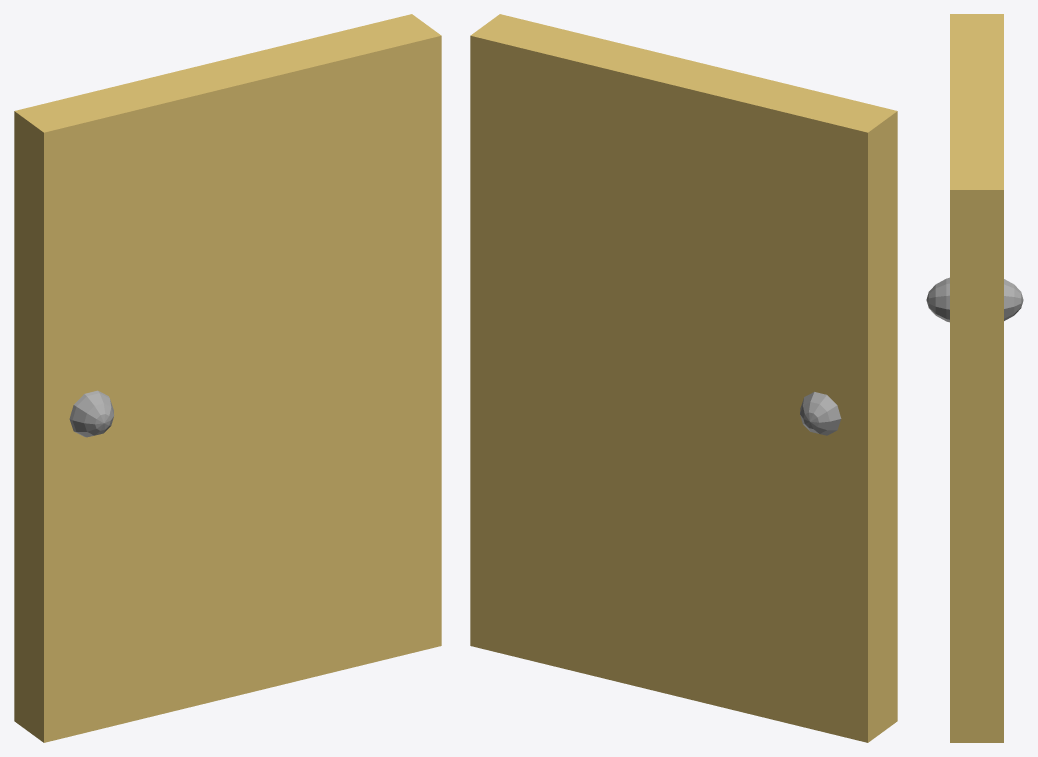
The model's file is babbb.fbx.
The picture shows the model from 3 angles, left to right: view 1: azimuth 30°, elevation 25°; view 2: azimuth 150°, elevation 25°; view 3: azimuth 270°, elevation 25°; orthographic projection. The views are drawn at different scales.
Visible parts, largest first — view 1: pCube3, pSphere1; view 2: pCube3, pSphere1; view 3: pCube3, pSphere1.
Boxes of the visible parts, left/top/right/bottom form: pCube3: left=14, top=14, right=441, bottom=742; pSphere1: left=69, top=390, right=114, bottom=437; pCube3: left=470, top=14, right=897, bottom=742; pSphere1: left=800, top=392, right=841, bottom=435; pCube3: left=950, top=14, right=1003, bottom=742; pSphere1: left=926, top=277, right=1023, bottom=322.
Size of the model in its own units: 147 by 216 by 34.41.
